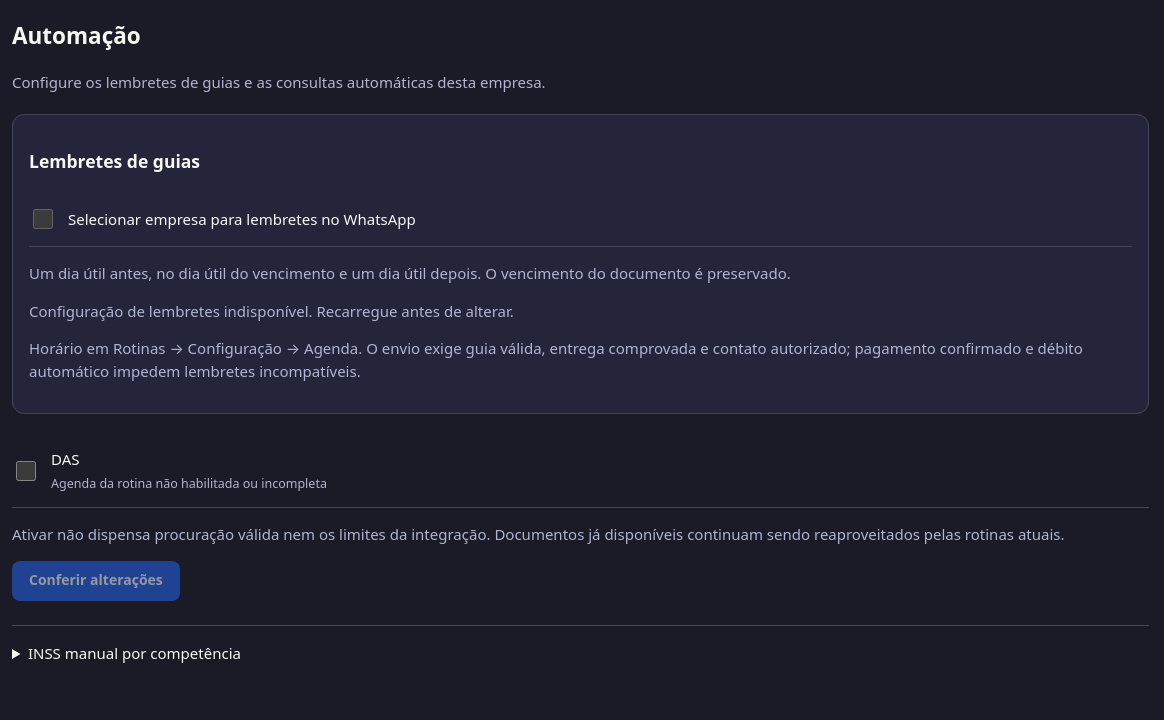
ativação exige prévia e não salva na leitura; resposta perdida reutiliza a chave
Click the checkbox labelled "DAS Agenda da rotina não habilitada ou incompleta" at (26, 471), box top-left (16, 461), bottom-right (36, 481)
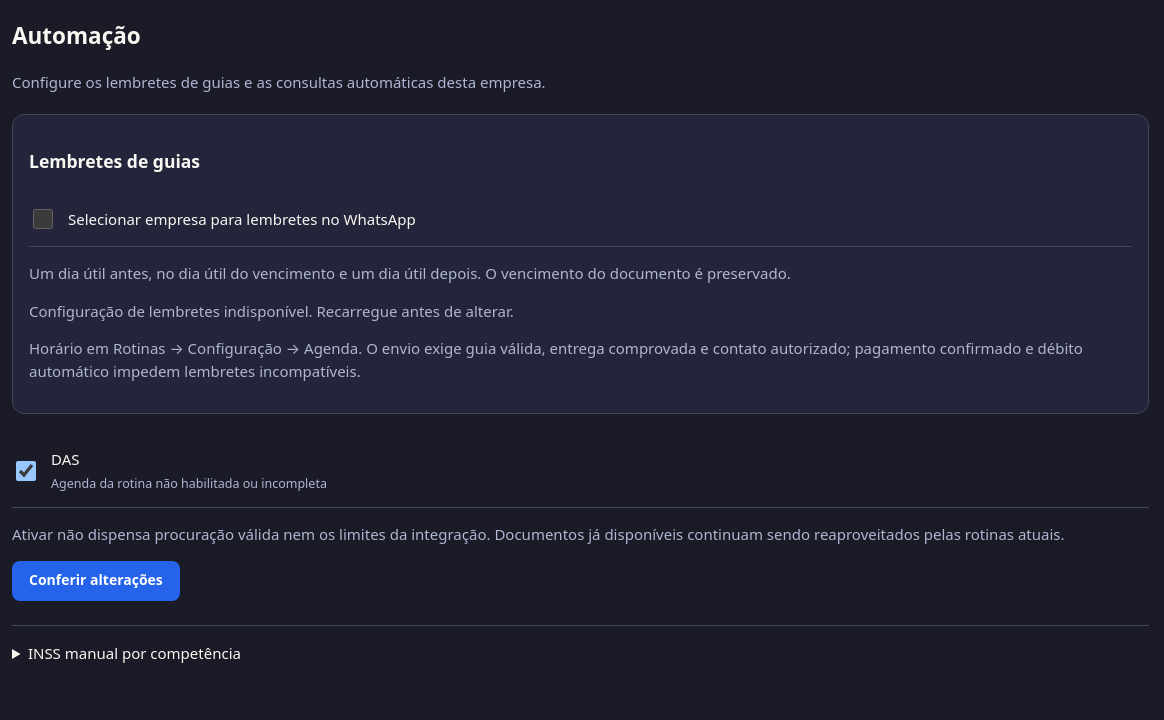
Click the button "Conferir alterações" at (96, 581), box top-left (12, 561), bottom-right (180, 601)
(page scrolled)
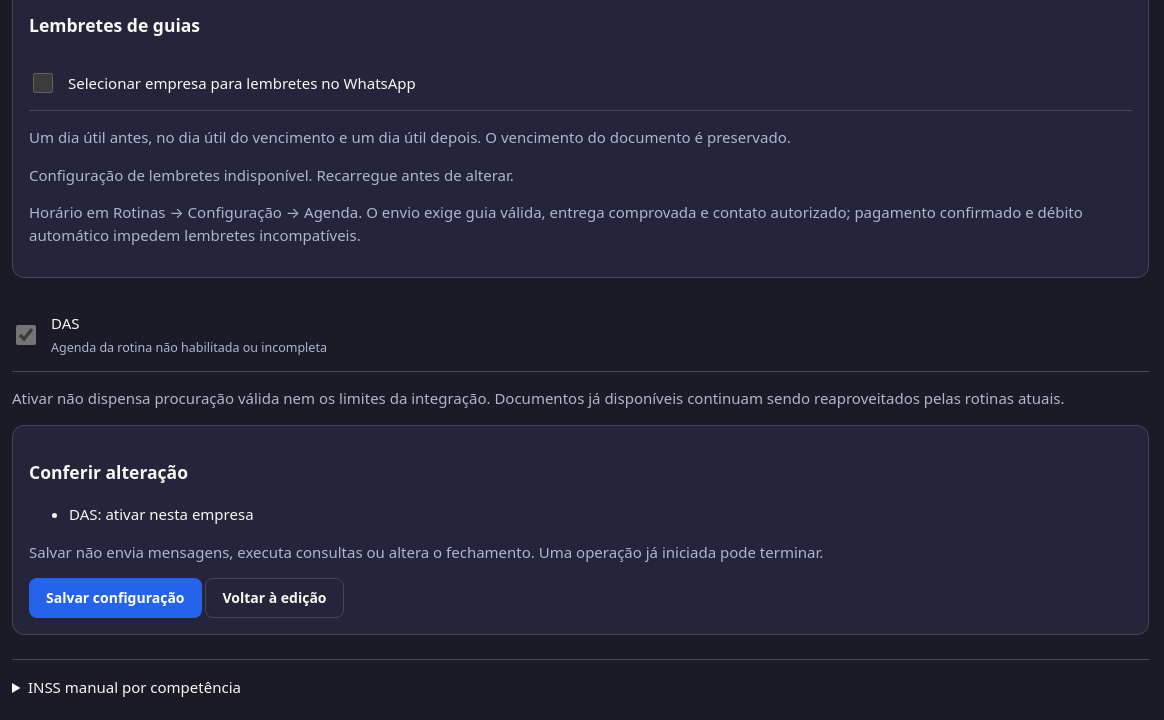
Click the button "Salvar configuração" at (115, 598), box top-left (29, 578), bottom-right (202, 618)
(page scrolled)
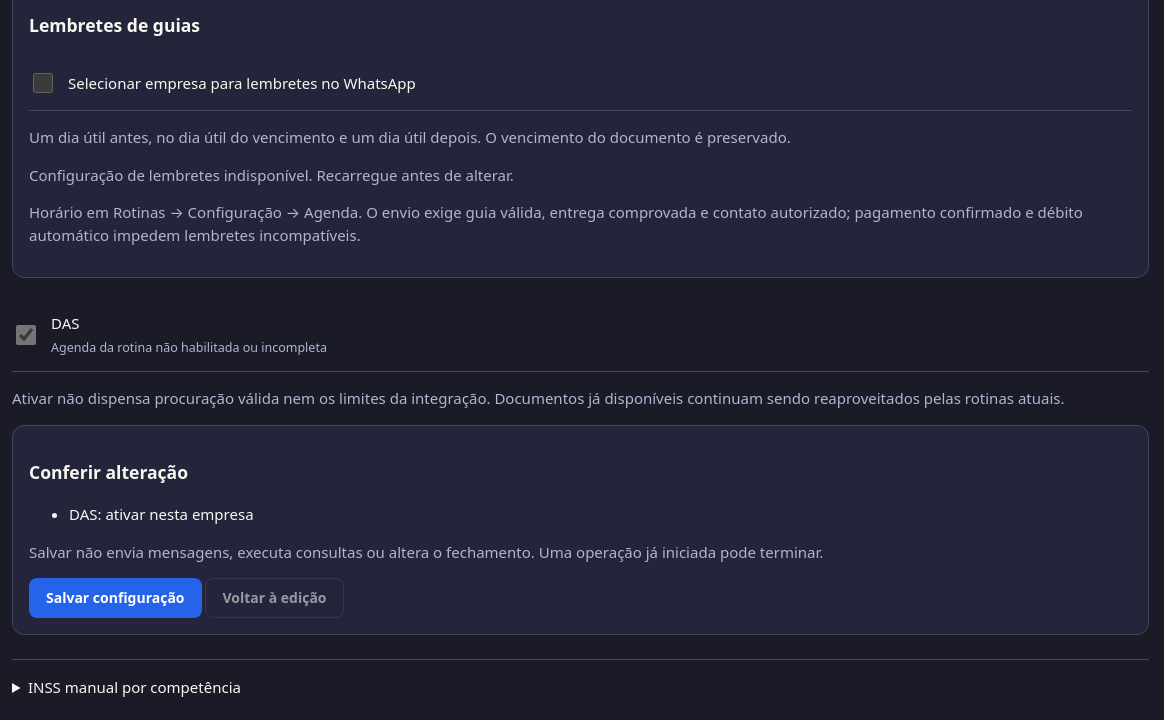
Click the button "Salvar configuração" at (115, 598), box top-left (29, 578), bottom-right (202, 618)
(page scrolled)
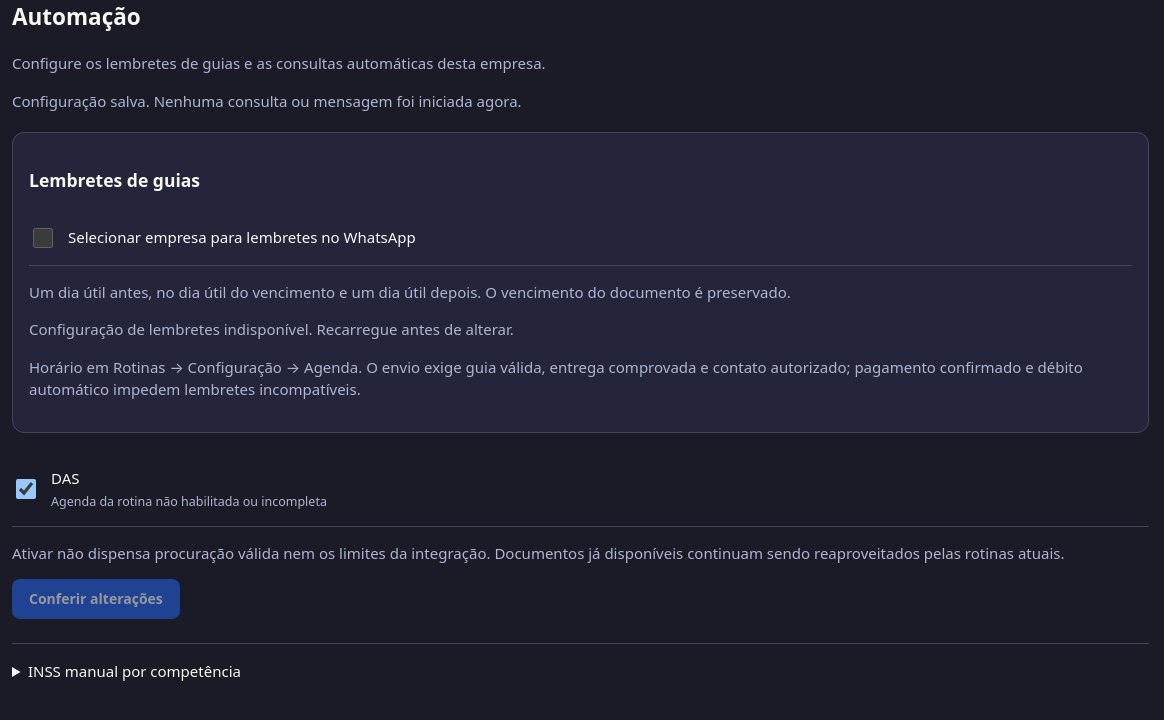
Check: the message shows "Configuração salva", box top-left (12, 91), bottom-right (522, 111)
